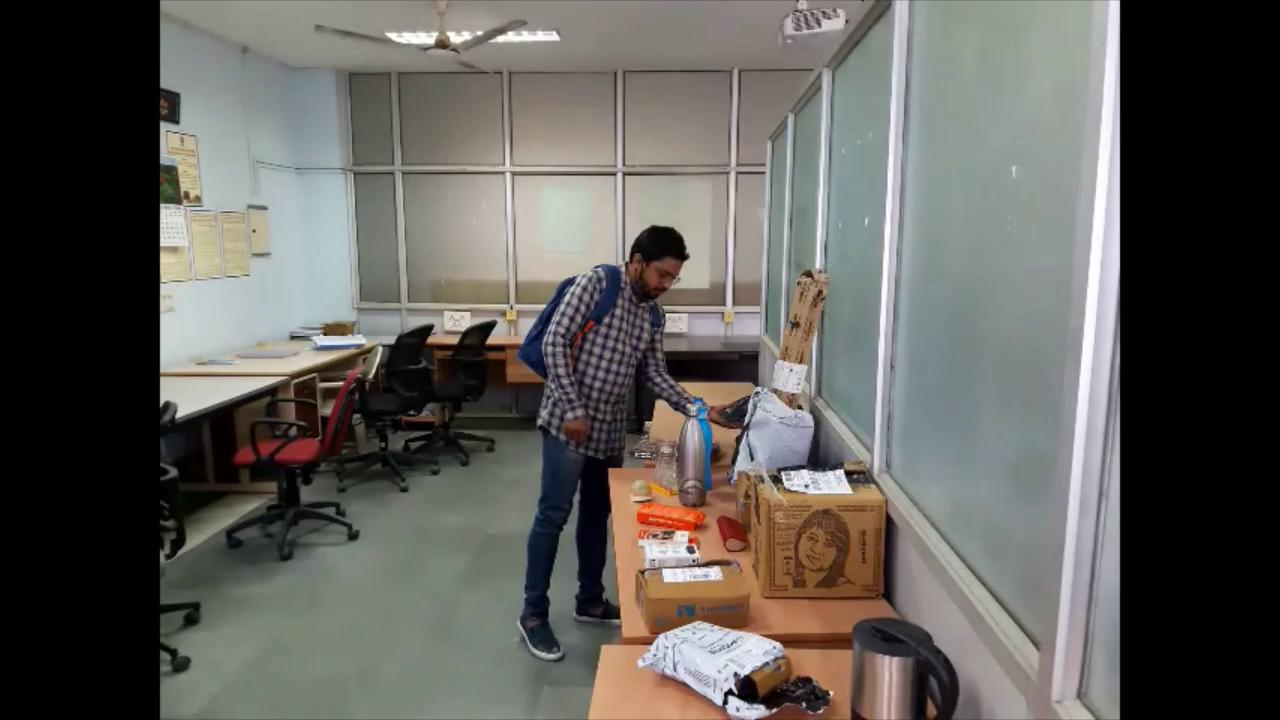Normal: (514, 200, 718, 720)
